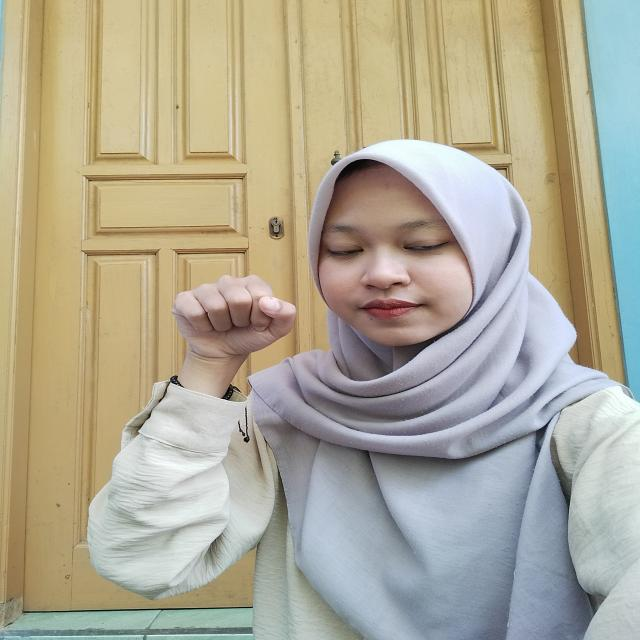baik: (127, 262, 314, 456)
